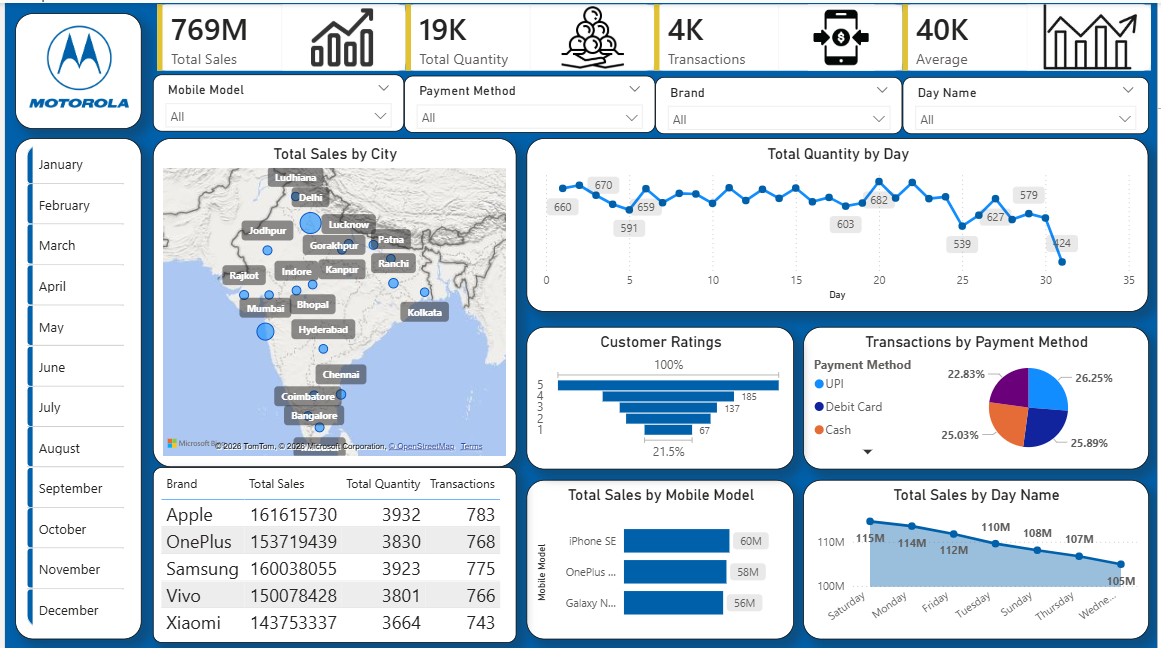

The page's visual inventory and layout, read from the dashboard file:
{"tool":"powerbi","page":{"name":"Page 1","canvas":[1280,720],"ordinal":0},"visuals":[{"type":"shape","box":[11.3,11.3,140.3,128.9],"z":0},{"type":"image","box":[25.5,1.4,113.3,138.8],"z":1000},{"type":"shape","box":[11.3,150.2,140.3,556.8],"z":2000},{"type":"advancedSlicerVisual","fields":{"Values":["Mobile_Sales_Data.Date.Variation.Date Hierarchy.Month"]},"box":[18.4,150.2,120.4,556.8],"z":3000},{"type":"cardVisual","fields":{"Data":["Mobile_Sales_Data.Total Sales","Mobile_Sales_Data.Total Quantity","Mobile_Sales_Data.Transactions","Mobile_Sales_Data.Average"]},"box":[164.3,1.4,1116.4,80.8],"z":4000},{"type":"map","fields":{"Category":["Mobile_Sales_Data.City"],"Size":["Mobile_Sales_Data.Total Sales"]},"box":[164.3,150.2,403.8,365.5],"z":5000},{"type":"lineChart","fields":{"Category":["Mobile_Sales_Data.Date.Variation.Date Hierarchy.Month","Mobile_Sales_Data.Date.Variation.Date Hierarchy.Day"],"Y":["Mobile_Sales_Data.Total Quantity"]},"box":[579.4,150.2,691.3,192.7],"z":6000},{"type":"clusteredBarChart","fields":{"Category":["Mobile_Sales_Data.Mobile Model"],"Y":["Mobile_Sales_Data.Total Sales"]},"box":[579.4,529.8,297.5,177.1],"z":7000},{"type":"pieChart","fields":{"Category":["Mobile_Sales_Data.Payment Method"],"Y":["Mobile_Sales_Data.Transactions"]},"box":[886.8,359.8,383.9,158.7],"z":8000},{"type":"funnel","title":"Customer Ratings ","fields":{"Category":["Mobile_Sales_Data.Customer Ratings"],"Y":["CountNonNull(Mobile_Sales_Data.Customer Ratings)"]},"box":[579.4,359.8,297.5,158.7],"z":9000},{"type":"areaChart","fields":{"Category":["Mobile_Sales_Data.Day Name"],"Y":["Mobile_Sales_Data.Total Sales"]},"box":[886.8,529.8,383.9,177.1],"z":10000},{"type":"tableEx","fields":{"Values":["Mobile_Sales_Data.Brand","Mobile_Sales_Data.Total Sales","Mobile_Sales_Data.Total Quantity","Mobile_Sales_Data.Transactions"]},"box":[164,516,404,195],"z":11000},{"type":"slicer","fields":{"Values":["Mobile_Sales_Data.Mobile Model"]},"box":[164.3,79.3,279.1,63.8],"z":12000},{"type":"slicer","fields":{"Values":["Mobile_Sales_Data.Payment Method"]},"box":[443.4,80.8,279.1,63.8],"z":13000},{"type":"slicer","fields":{"Values":["Mobile_Sales_Data.Brand"]},"box":[722.5,82.2,274.8,63.8],"z":14000},{"type":"slicer","fields":{"Values":["Mobile_Sales_Data.Day Name"]},"box":[997.3,82.2,273.4,63.8],"z":15000}]}

Visuals, with their boxes in screenshot pixels (x1, y1, x2, y2), scaled from the page's 1280x720 canvas onto the 1161x648 screenshot:
shape: 10/10/138/126
image: 23/1/126/126
shape: 10/135/138/636
advancedSlicerVisual - Mobile_Sales_Data.Date.Variation.Date Hierarchy.Month: 17/135/126/636
cardVisual - Mobile_Sales_Data.Total Sales x Mobile_Sales_Data.Total Quantity: 149/1/1160/74
map - Mobile_Sales_Data.City x Mobile_Sales_Data.Total Sales: 149/135/515/464
lineChart - Mobile_Sales_Data.Date.Variation.Date Hierarchy.Month x Mobile_Sales_Data.Date.Variation.Date Hierarchy.Day: 526/135/1153/309
clusteredBarChart - Mobile_Sales_Data.Mobile Model x Mobile_Sales_Data.Total Sales: 526/477/795/636
pieChart - Mobile_Sales_Data.Payment Method x Mobile_Sales_Data.Transactions: 804/324/1153/467
"Customer Ratings " funnel: 526/324/795/467
areaChart - Mobile_Sales_Data.Day Name x Mobile_Sales_Data.Total Sales: 804/477/1153/636
tableEx - Mobile_Sales_Data.Brand x Mobile_Sales_Data.Total Sales: 149/464/515/640
slicer - Mobile_Sales_Data.Mobile Model: 149/71/402/129
slicer - Mobile_Sales_Data.Payment Method: 402/73/655/130
slicer - Mobile_Sales_Data.Brand: 655/74/905/131
slicer - Mobile_Sales_Data.Day Name: 905/74/1153/131
